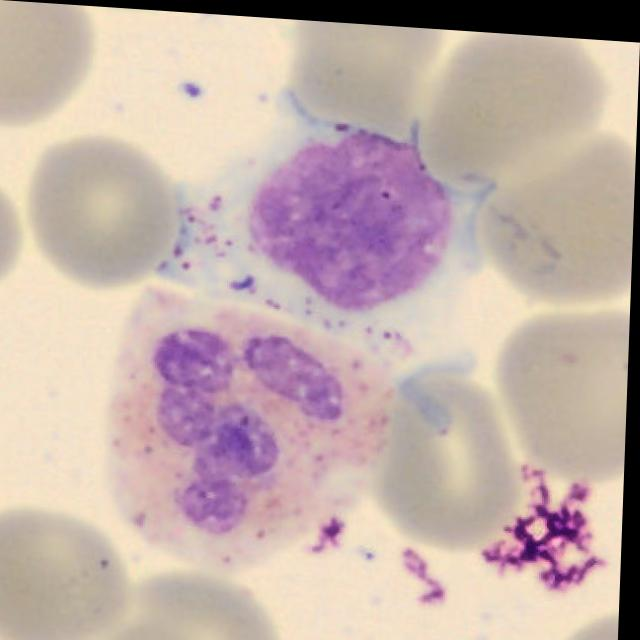Linfocito atipico: (155, 83, 498, 432)
Neutrofilo segmentado: (109, 285, 402, 569)
